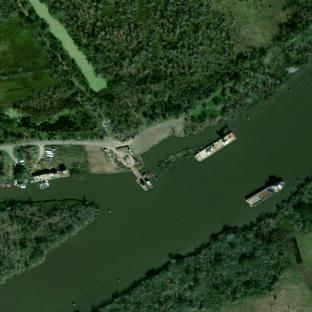Floresta: (0, 0, 242, 146), (92, 179, 312, 312), (0, 200, 100, 284), (201, 48, 283, 121)
